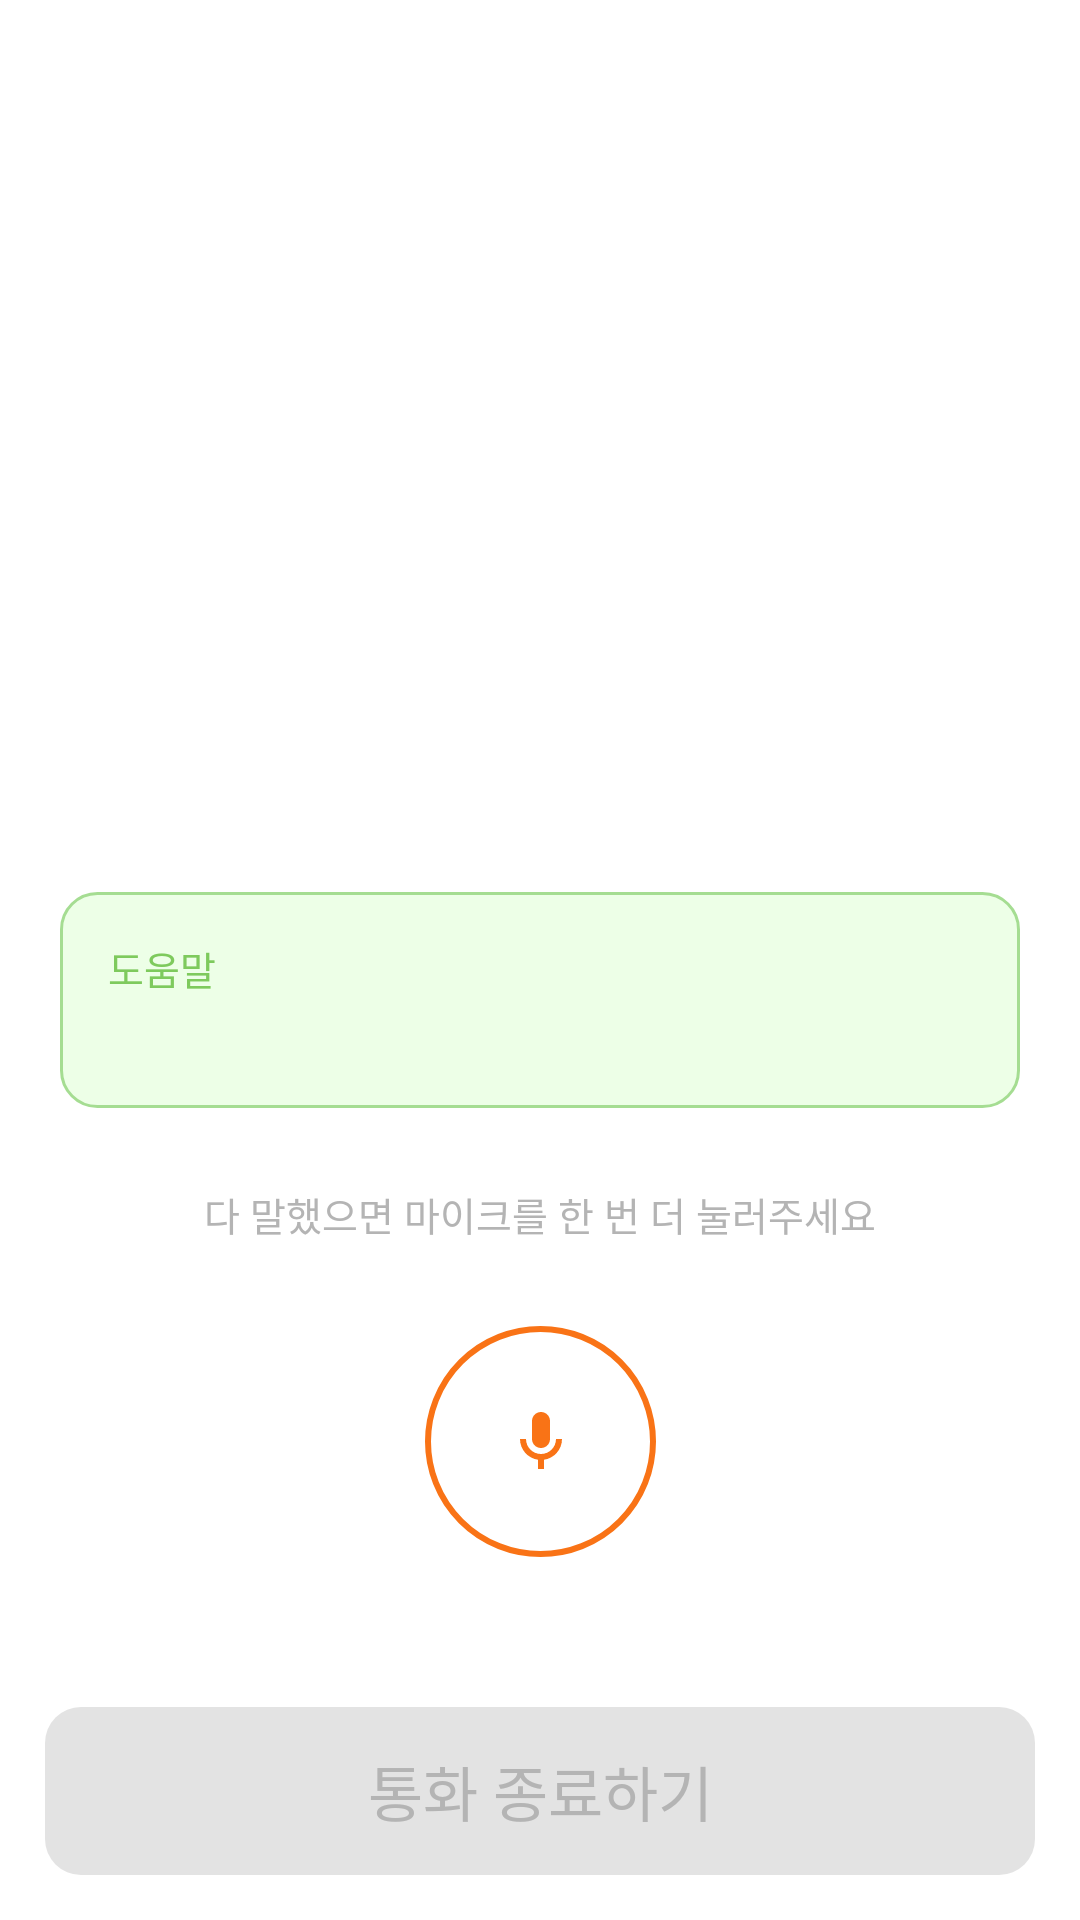

Locate icon controls on the screen. Image size 1080*1920, boxes as region(x1, y1, x2, y2).
말하기: region(425, 1326, 656, 1557)
